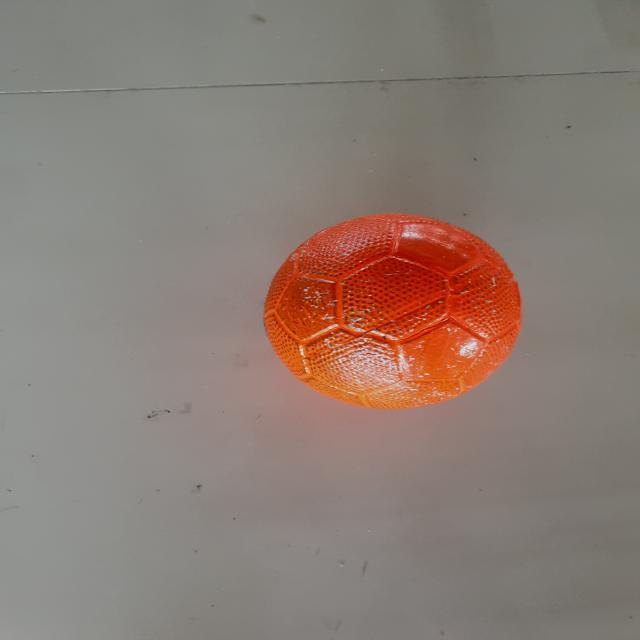bola: (253, 208, 528, 414)
